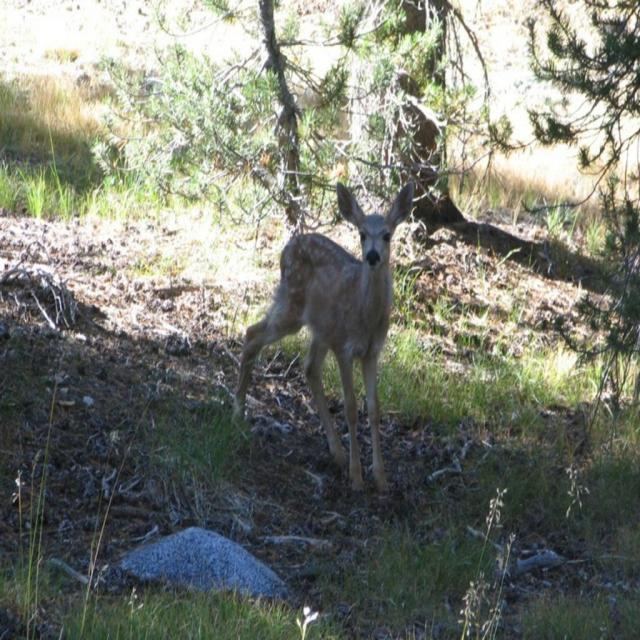Deer: (232, 182, 416, 502)
